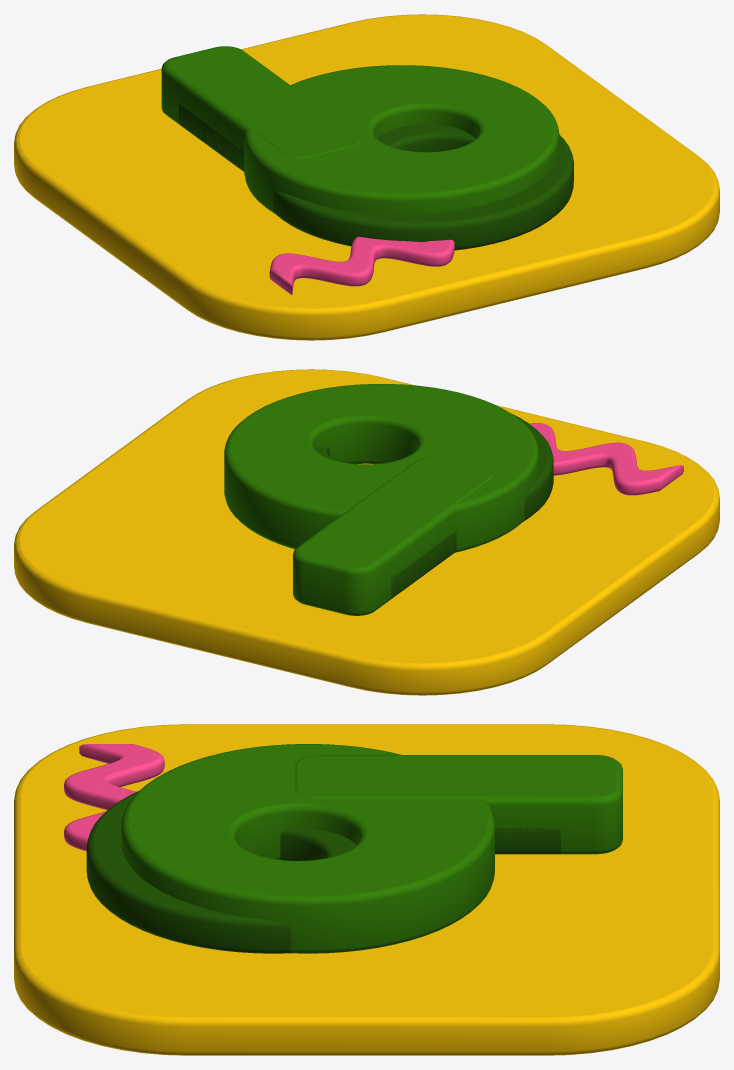
File: d3-mark.glb
The picture shows the model from 3 angles, top to bottom: view 1: azimuth 30°, elevation 25°; view 2: azimuth 150°, elevation 25°; view 3: azimuth 270°, elevation 25°; orthographic projection. The views are drawn at different scales.
Parts seen in each view (by area): view 1: plate, g.003, g.002, g.001, g.004, g; view 2: plate, g.003, g.002, g.004, g.001, g; view 3: plate, g.003, g.002, g.001, g.004, g.
Part boxes in pixels (<box>): plate: <box>14,14,719,340</box>; g.003: <box>244,65,559,214</box>; g.002: <box>161,46,361,170</box>; g.001: <box>273,124,573,250</box>; g.004: <box>269,236,454,294</box>; g: <box>179,104,244,171</box>; plate: <box>14,369,719,695</box>; g.003: <box>224,384,538,552</box>; g.002: <box>293,457,492,615</box>; g.004: <box>529,423,683,495</box>; g.001: <box>316,413,553,521</box>; g: <box>391,531,456,598</box>; plate: <box>14,724,719,1055</box>; g.003: <box>121,744,494,953</box>; g.002: <box>295,755,622,854</box>; g.001: <box>86,790,356,953</box>; g.004: <box>64,744,164,851</box>; g: <box>495,828,560,854</box>.
Size of the model in its own units: 2.04 by 0.302 by 2.04.
